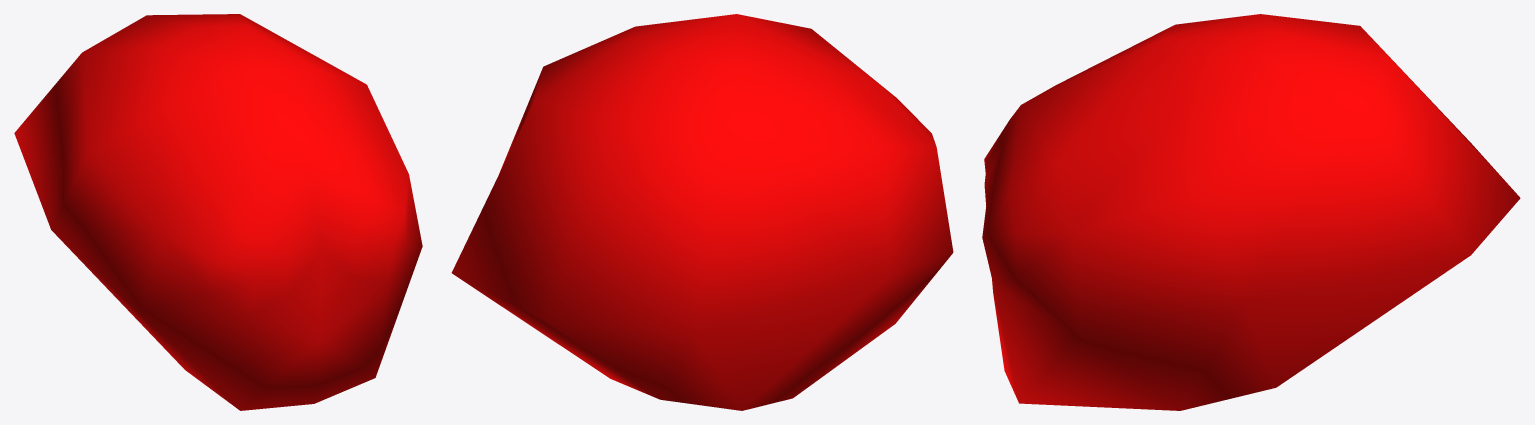
Rendered from head.obj.
3 renders of one model, left to right at view 1: azimuth 30°, elevation 25°; view 2: azimuth 150°, elevation 25°; view 3: azimuth 270°, elevation 25°, orthographic. The views are drawn at different scales.
Visible parts, largest first — view 1: head:transformblitzcrank_transformblitzcrank; view 2: head:transformblitzcrank_transformblitzcrank; view 3: head:transformblitzcrank_transformblitzcrank.
Boxes of the visible parts, x1,y1,x2,y2 form: head:transformblitzcrank_transformblitzcrank: (14, 14, 422, 410); head:transformblitzcrank_transformblitzcrank: (451, 14, 953, 410); head:transformblitzcrank_transformblitzcrank: (982, 14, 1520, 410).
Size of the model in its own units: 2.29 by 2.09 by 2.88.
